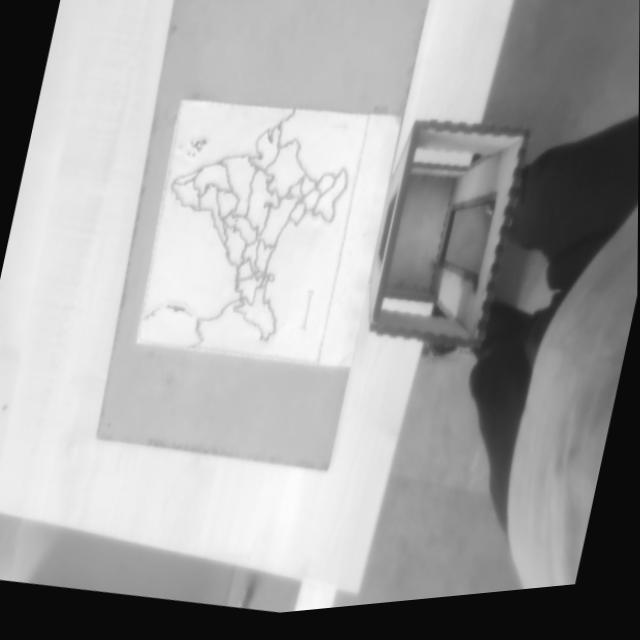map: (130, 76, 369, 379)
